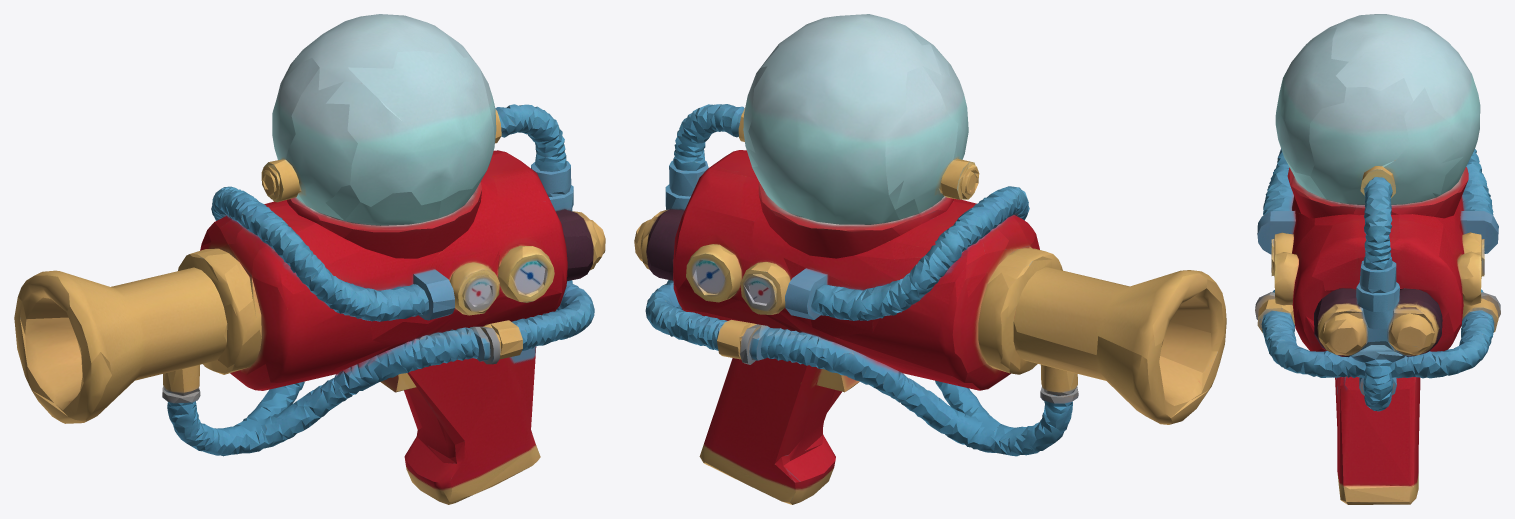
File: Vacuum_Mega.glb
The picture shows the model from 3 angles, left to right: view 1: azimuth 30°, elevation 25°; view 2: azimuth 150°, elevation 25°; view 3: azimuth 270°, elevation 25°; orthographic projection. The views are drawn at different scales.
Bounding box in the file's own units: 1.9 × 1.65 × 0.8312.
1 material, 1 textured.
